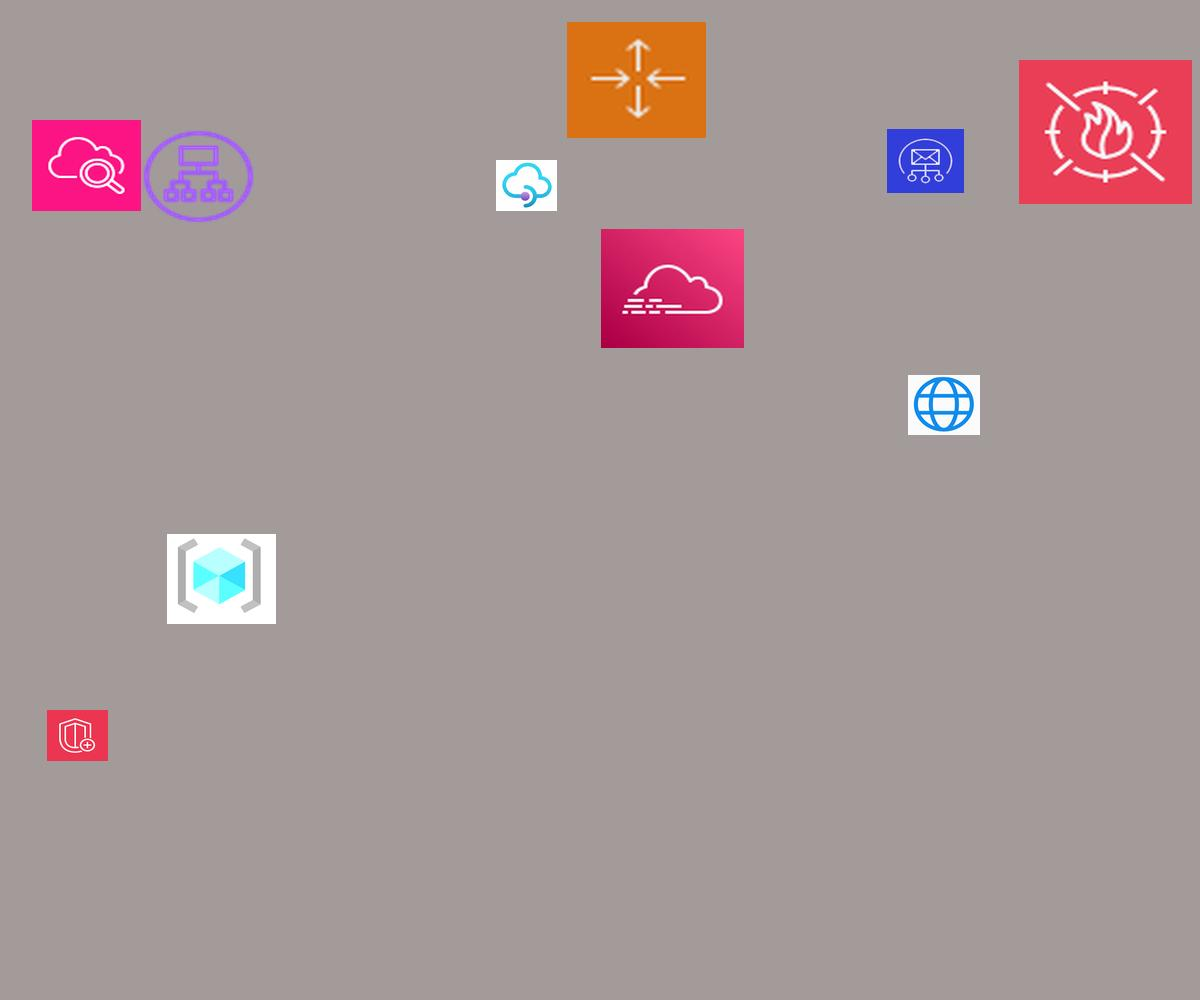AWS-CloudTrail: (601, 229, 744, 348)
AWS-CloudWatch: (32, 120, 141, 211)
AWS-Res_Elastic-Load-Balancing_Application-Load-Balancer: (139, 127, 258, 226)
AWS-Scaling-group: (567, 22, 706, 138)
AWS-Shield: (47, 710, 108, 761)
AWS-Simple-Email-Service: (887, 129, 964, 193)
AWS-WAF: (1019, 60, 1192, 204)
Azure_api_gateway: (496, 160, 557, 211)
Azure_http: (908, 375, 980, 435)
Azure_resource_group: (167, 534, 276, 624)
